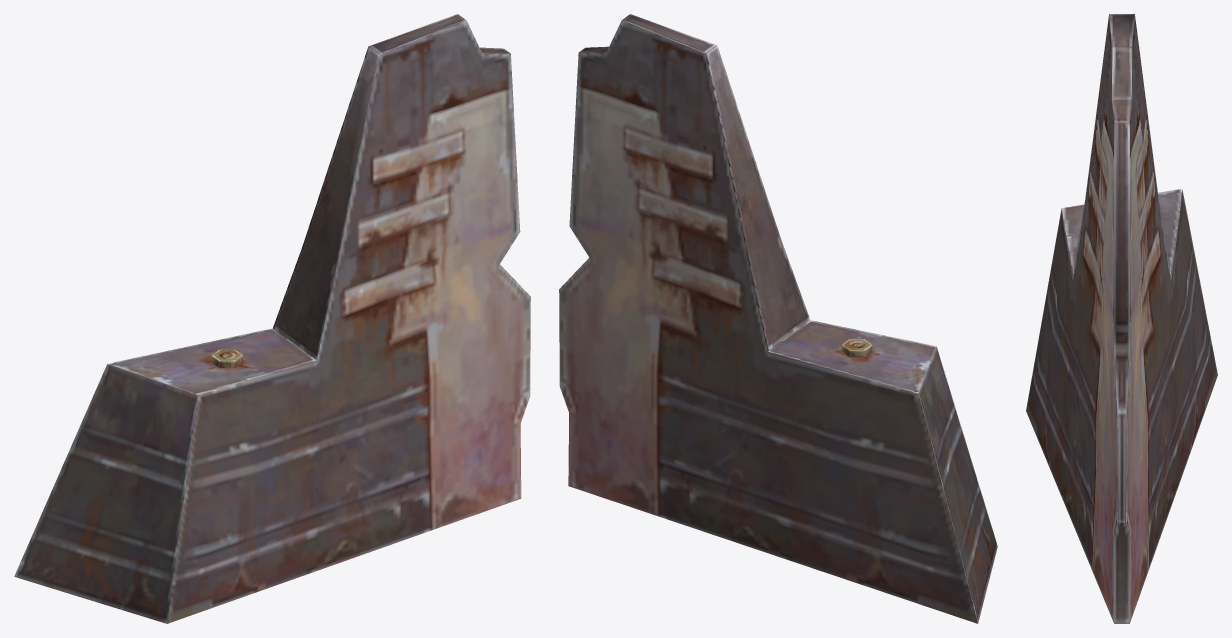
File: tyt_arch_fleshraider_junk_14.glb
3 views of the same model, side by side, from view 1: azimuth 30°, elevation 25°; view 2: azimuth 150°, elevation 25°; view 3: azimuth 270°, elevation 25° (orthographic). The views are drawn at different scales.
Parts seen in each view (by area): view 1: tyt_arch_fleshraider_junk_14; view 2: tyt_arch_fleshraider_junk_14; view 3: tyt_arch_fleshraider_junk_14.
Part boxes in pixels (x1,y1,x2,y2): tyt_arch_fleshraider_junk_14: (14,14,530,623); tyt_arch_fleshraider_junk_14: (559,14,997,623); tyt_arch_fleshraider_junk_14: (1026,14,1217,623).
Size of the model in its own units: 0.2203 by 0.22 by 0.0701.
Materials: 1 (1 with a texture image).
